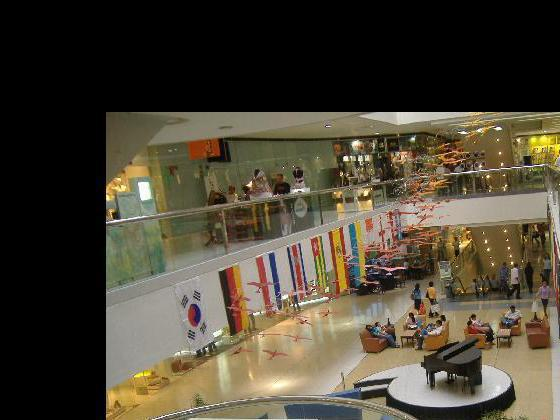Escaleras: (109, 384, 442, 420)
